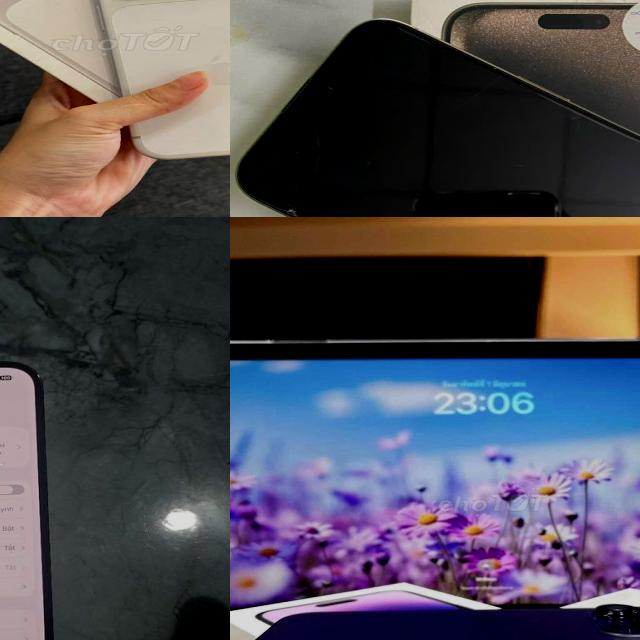gen_14: (0, 347, 61, 640), (258, 600, 640, 640)
gen_15: (233, 22, 640, 217)
gen_17: (88, 0, 230, 157)
physical_damage: (260, 97, 327, 217), (412, 66, 523, 124), (555, 98, 603, 136)
